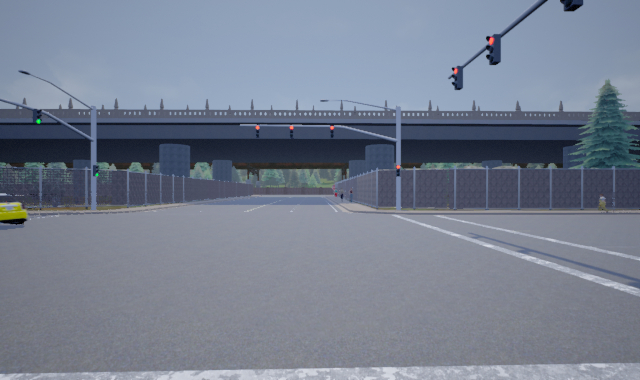pedestrian: (592, 191, 612, 212), (338, 186, 345, 202), (348, 186, 354, 202)
traffic_light: (484, 33, 503, 65), (450, 65, 465, 90), (32, 105, 42, 125), (329, 121, 336, 140), (254, 124, 261, 141), (93, 163, 100, 178), (289, 125, 295, 140), (394, 165, 401, 176)
vehicle: (1, 192, 28, 228)
